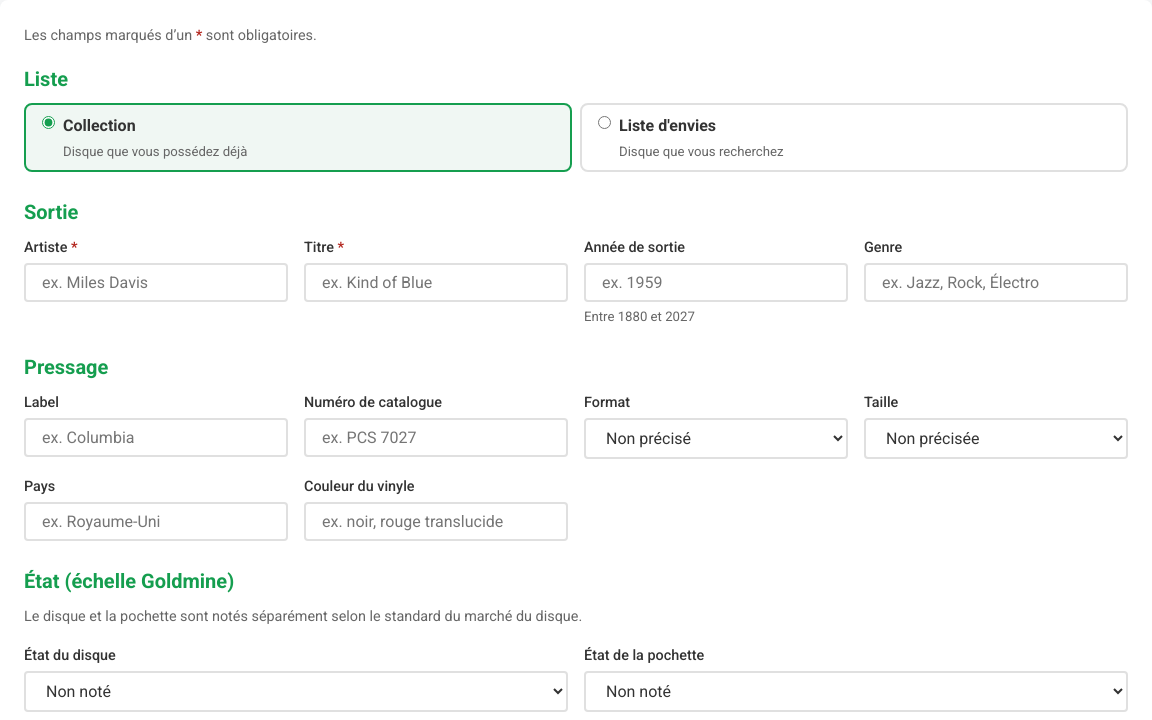
FormulaireVinyle › affiche les erreurs de validation renvoyées par l’API sous chaque champ
Type "The Beatles" into the field labelled "Artiste *" at (156, 282), box [24,263,288,302]
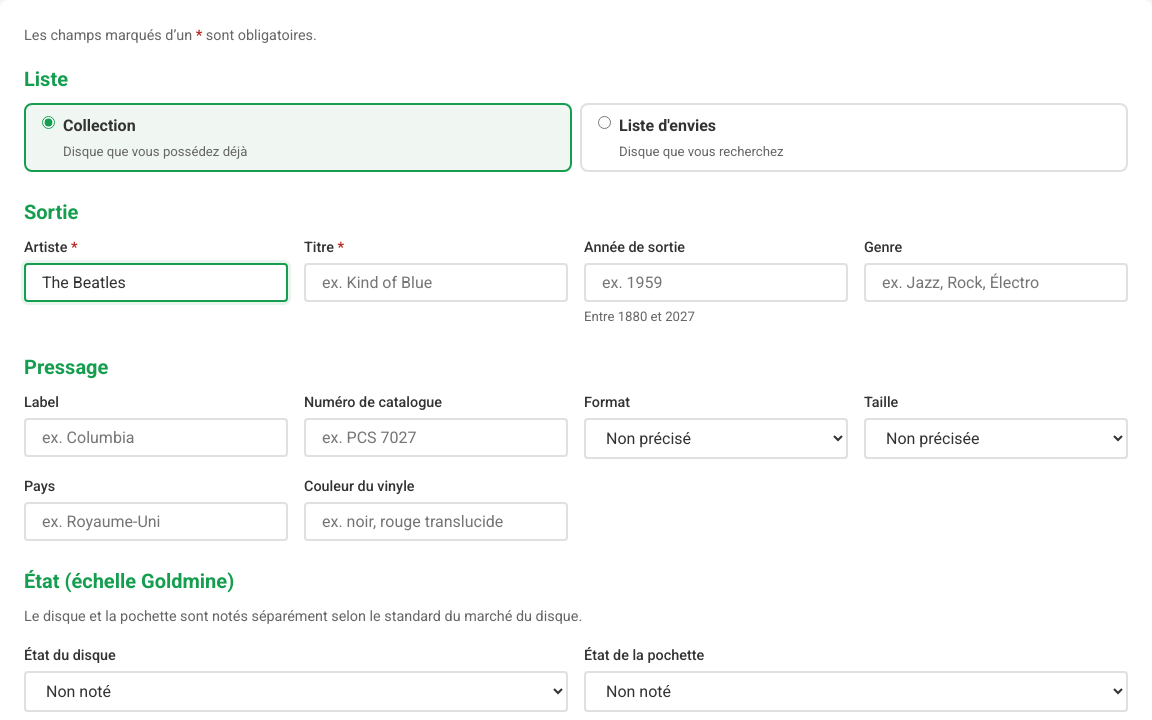
Type "Abbey Road" into the field labelled "Titre *" at (436, 282), box [304,263,568,302]
(page scrolled)
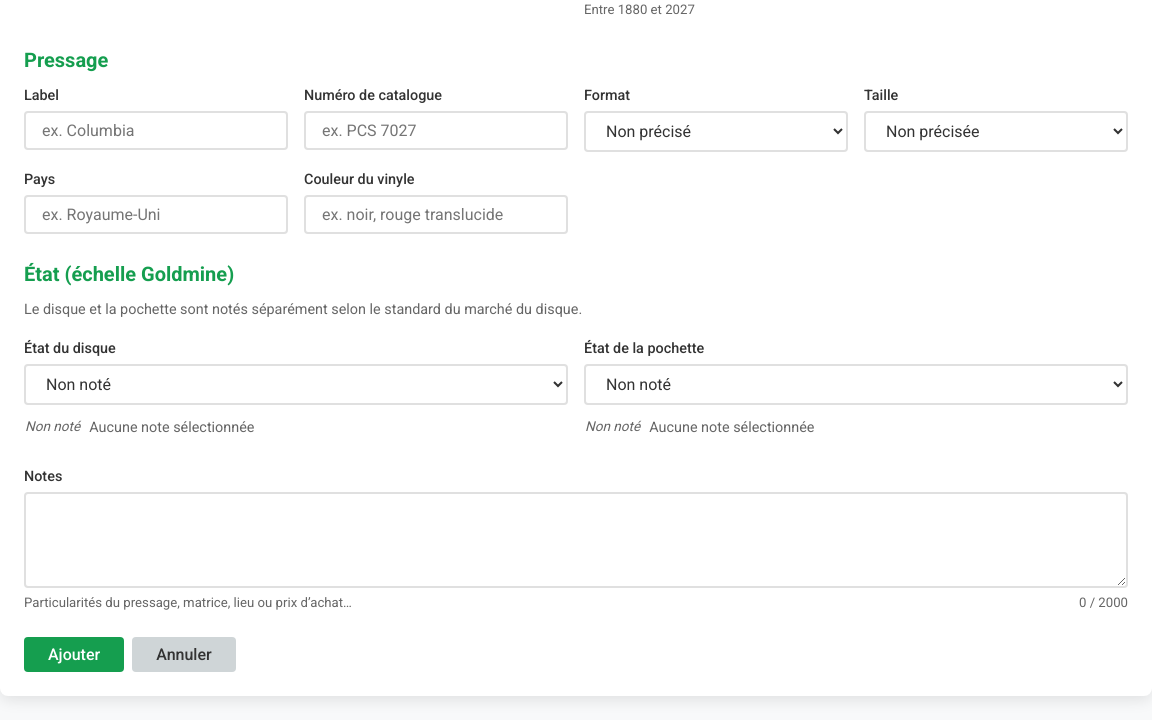
Click the button "Ajouter" at (74, 655), box [24,637,124,672]
(page scrolled)
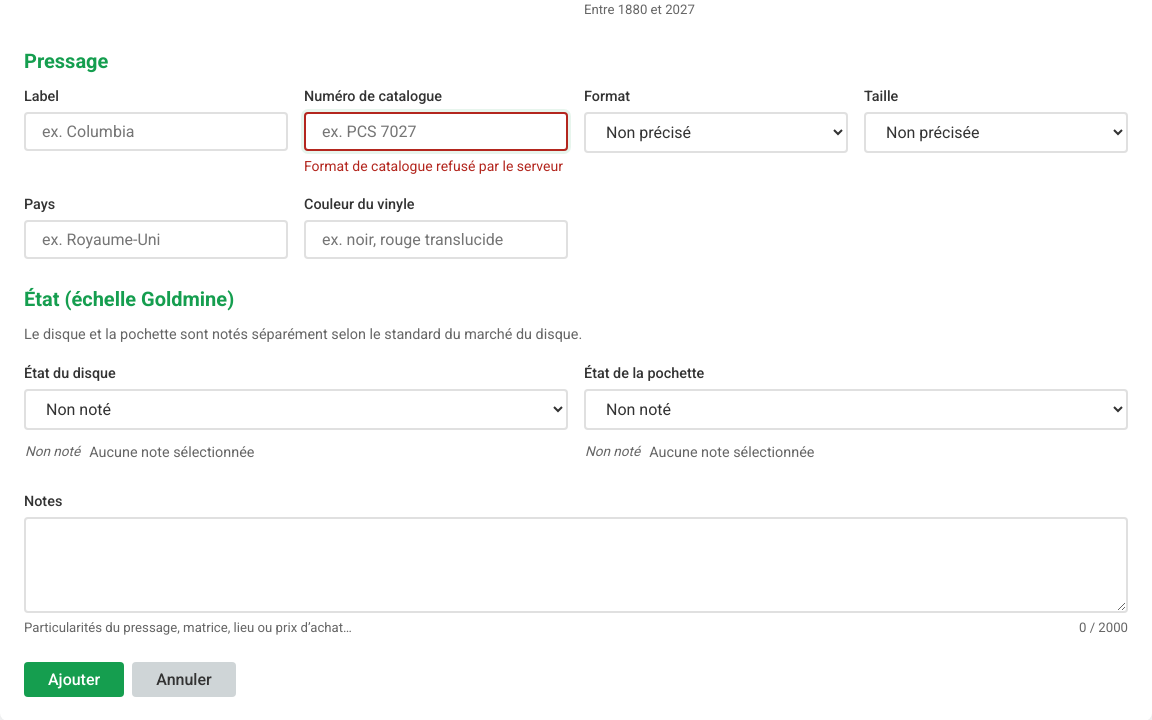
Expected: the text "Format de catalogue refusé par le serveur" is shown, [304,155,568,177]
